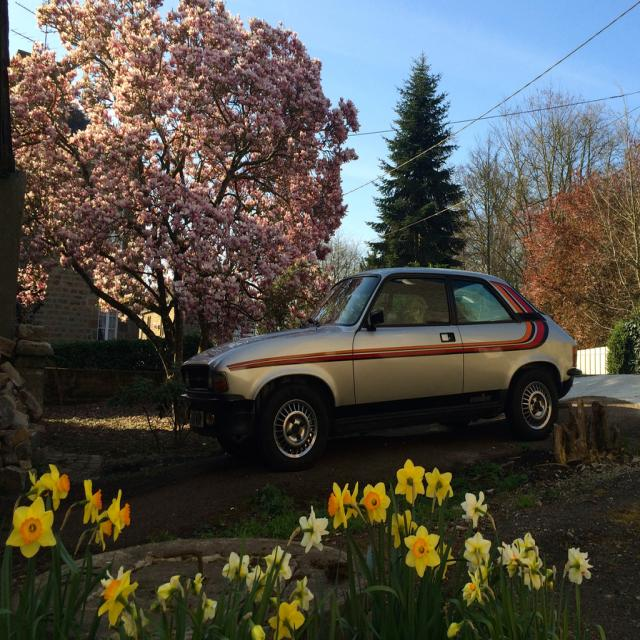car: (180, 270, 583, 472)
